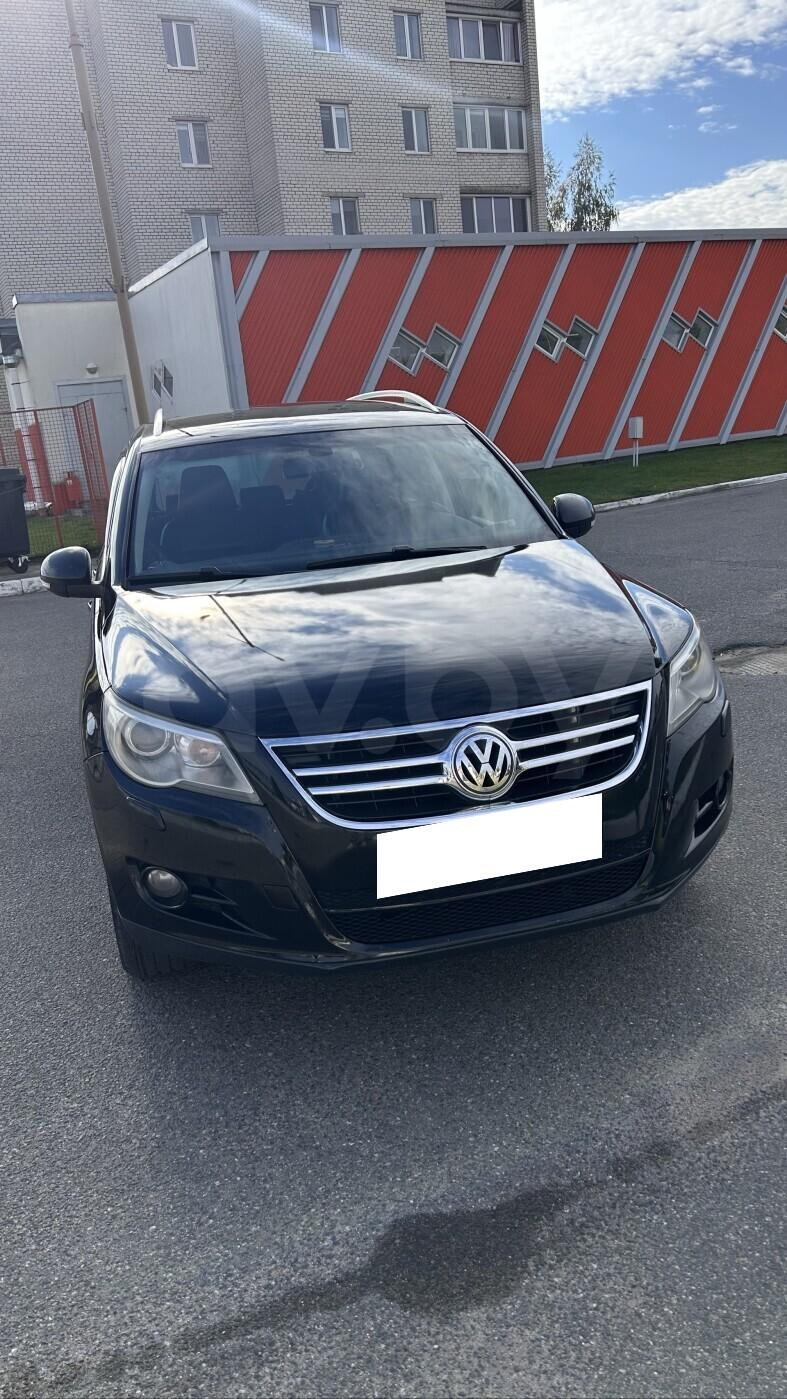Tiguan_2007-2011: (36, 400, 734, 976)
